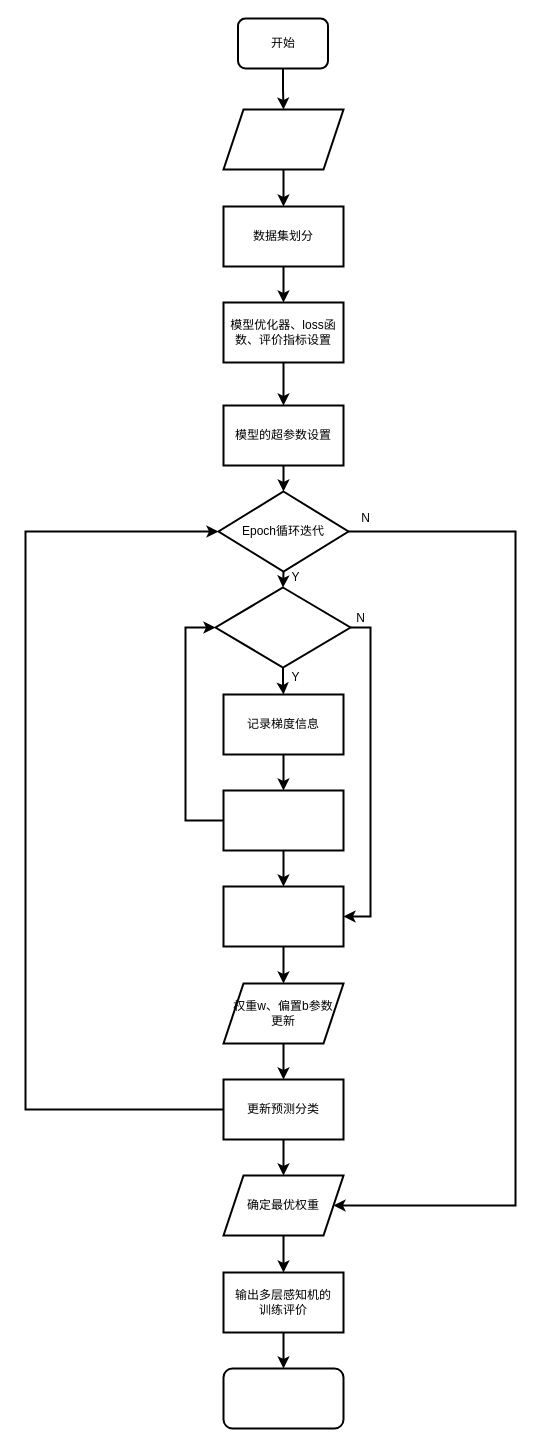
Image size: 541x1446. Some labels were removed from this diagram. Each missing label, with the centre of its shape:
Batch循环迭代: [282,627]
导入TensorFlow等 训练所需要的包: [283,139]
结束: [283,1398]
计算loss对各个参数的梯度: [283,820]
输出loss信息: [283,916]
